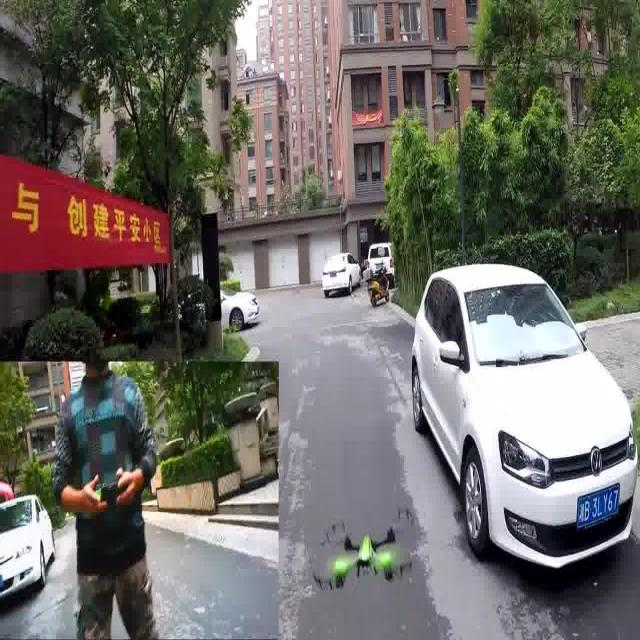drone: (306, 488, 423, 602)
